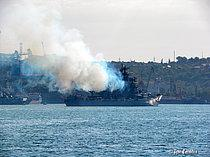MIL_Ship: (62, 65, 164, 109)
